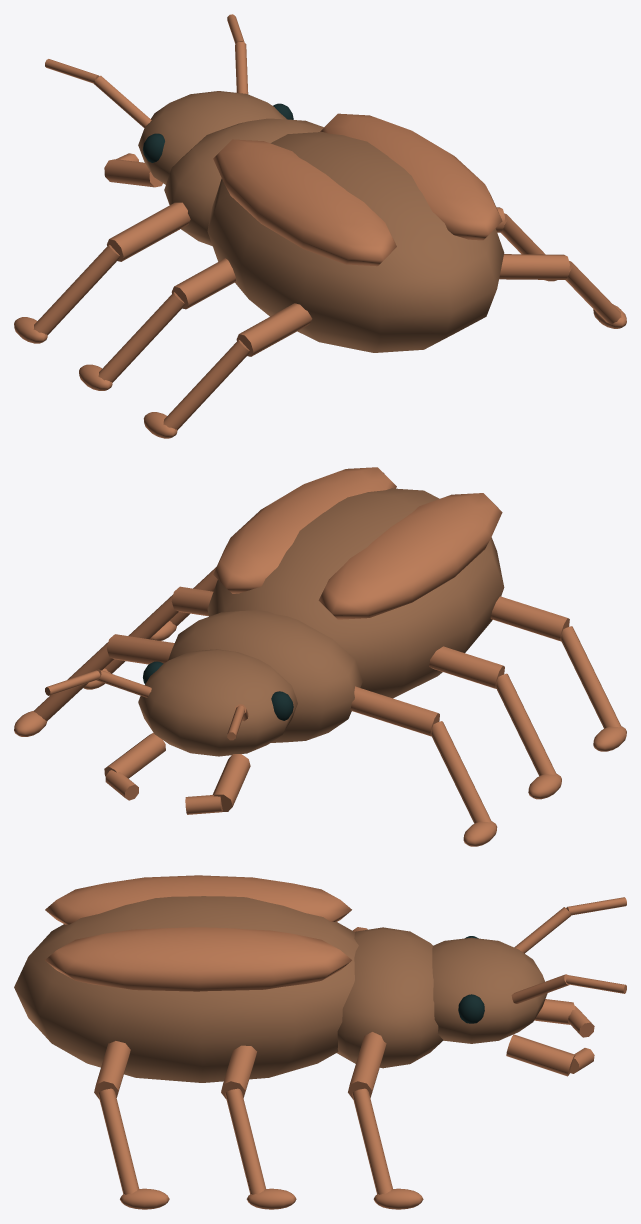
The model's file is sand-beetle.glb.
3 renders of one model, top to bottom at view 1: azimuth 30°, elevation 25°; view 2: azimuth 150°, elevation 25°; view 3: azimuth 270°, elevation 25°, orthographic. The views are drawn at different scales.
Visible parts, largest first — view 1: body, back-plates, head, leg-0, leg-4, leg-2, antennae, leg-5, leg-3, eyes; view 2: body, back-plates, head, antennae, leg-0, leg-4, leg-2, leg-1, leg-3, leg-5, eyes; view 3: body, back-plates, head, antennae, leg-1, leg-5, leg-3, eyes.
Boxes of the visible parts, left/top/right/bottom form: body: left=164, top=118, right=504, bottom=352; back-plates: left=213, top=113, right=502, bottom=266; head: left=138, top=91, right=286, bottom=184; leg-0: left=14, top=202, right=190, bottom=343; leg-4: left=143, top=303, right=312, bottom=438; leg-2: left=79, top=258, right=235, bottom=390; antennae: left=45, top=14, right=248, bottom=187; leg-5: left=499, top=254, right=626, bottom=328; leg-3: left=495, top=207, right=556, bottom=281; eyes: left=143, top=103, right=293, bottom=162; body: left=168, top=488, right=504, bottom=742; back-plates: left=213, top=467, right=502, bottom=619; head: left=138, top=649, right=297, bottom=756; antennae: left=45, top=669, right=250, bottom=814; leg-0: left=350, top=686, right=497, bottom=846; leg-4: left=490, top=596, right=626, bottom=751; leg-2: left=429, top=646, right=561, bottom=799; leg-1: left=14, top=634, right=174, bottom=736; leg-3: left=83, top=586, right=213, bottom=689; leg-5: left=149, top=567, right=217, bottom=640; eyes: left=143, top=661, right=293, bottom=720; body: left=14, top=896, right=443, bottom=1082; back-plates: left=45, top=875, right=351, bottom=991; head: left=432, top=937, right=547, bottom=1043; antennae: left=506, top=897, right=626, bottom=1076; leg-1: left=348, top=1032, right=423, bottom=1209; leg-5: left=94, top=1041, right=169, bottom=1209; leg-3: left=221, top=1045, right=296, bottom=1209; eyes: left=458, top=936, right=484, bottom=1023.
Bounding box in the file's own units: 1.39 × 0.556 × 1.59.
